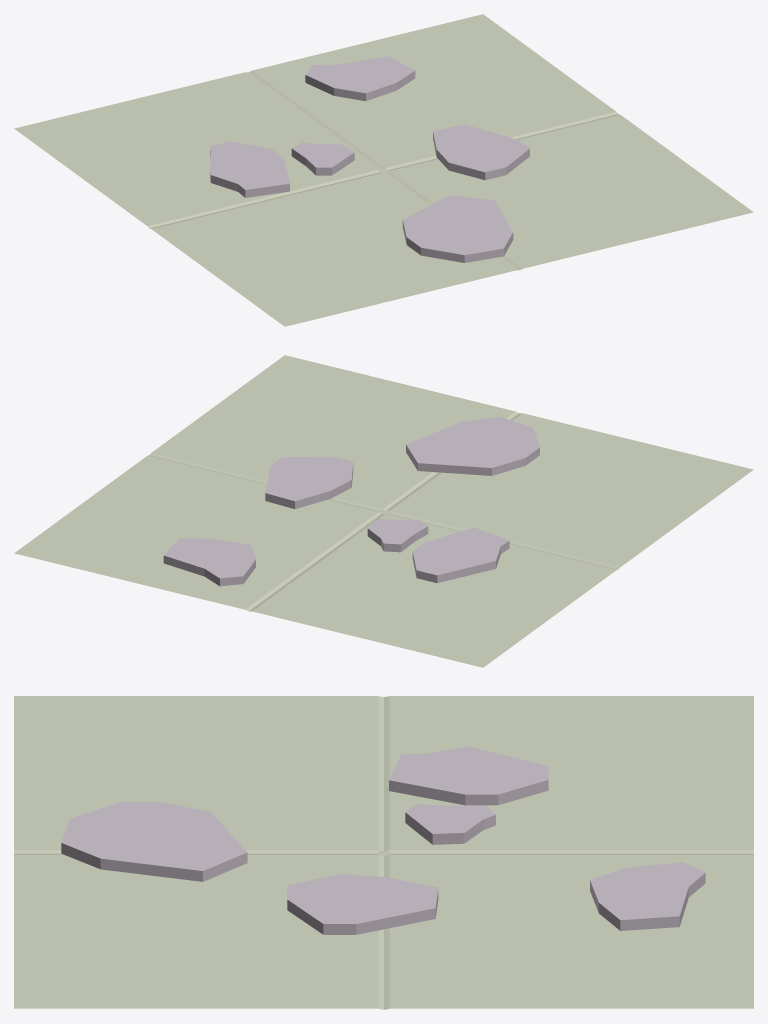
The model's file is SM_SM_Floor_03.003.fbx.
The picture shows the model from 3 angles, top to bottom: view 1: azimuth 30°, elevation 25°; view 2: azimuth 150°, elevation 25°; view 3: azimuth 270°, elevation 25°; orthographic projection. The views are drawn at different scales.
Parts seen in each view (by area): view 1: SM_Floor_03.003; view 2: SM_Floor_03.003; view 3: SM_Floor_03.003.
Boxes of the visible parts, x1=… form: SM_Floor_03.003: x1=14, y1=14, x2=753, y2=326; SM_Floor_03.003: x1=14, y1=355, x2=753, y2=667; SM_Floor_03.003: x1=14, y1=696, x2=753, y2=1009.
Size of the model in its own units: 400 by 7.11 by 400.
